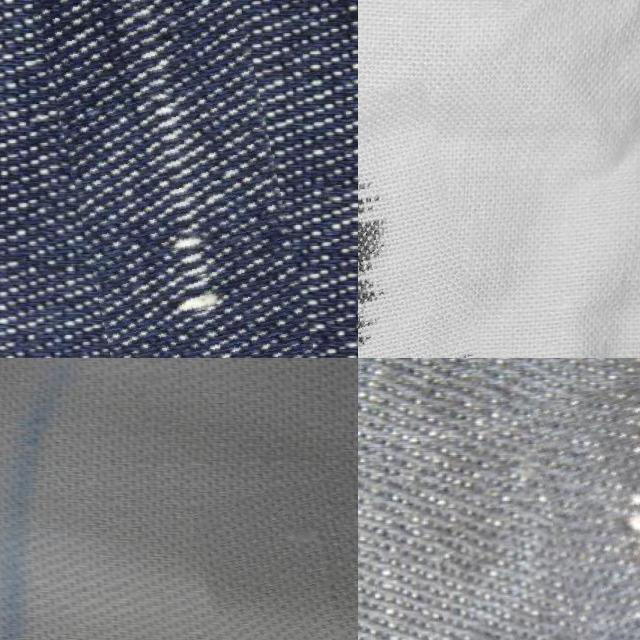Thread_other: (358, 84, 470, 358)
stains: (48, 0, 293, 358), (547, 358, 640, 640), (206, 476, 358, 640)
